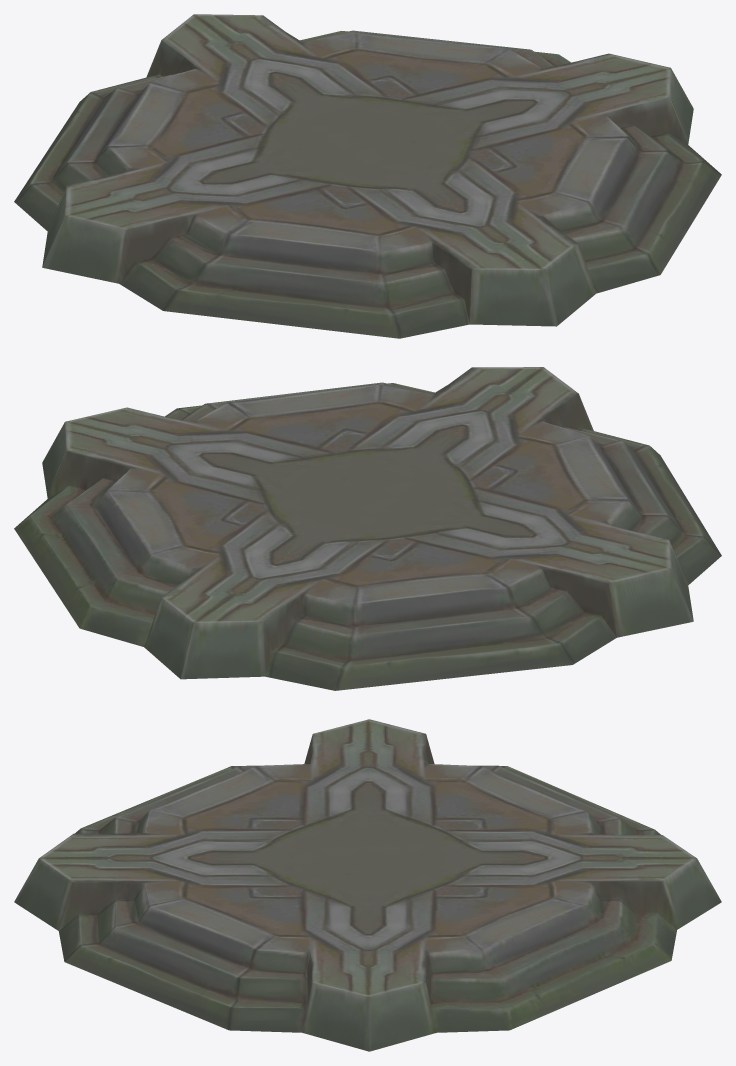
The model's file is stand.glb.
3 views of the same model, one above another, from view 1: azimuth 30°, elevation 25°; view 2: azimuth 150°, elevation 25°; view 3: azimuth 270°, elevation 25° (orthographic). The views are drawn at different scales.
Parts seen in each view (by area): view 1: stand_collider; view 2: stand_collider; view 3: stand_collider.
Boxes of the visible parts, x1,y1,x2,y2 form: stand_collider: (14, 14, 721, 338); stand_collider: (14, 367, 721, 690); stand_collider: (14, 719, 721, 1051).
Bounding box in the file's own units: 2.96 × 0.2023 × 2.96.
1 material, 1 textured.
